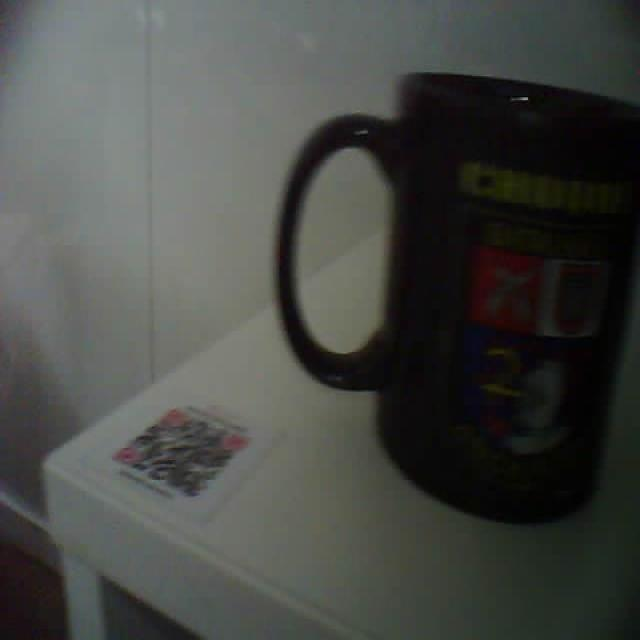caneca: (277, 73, 639, 521)
